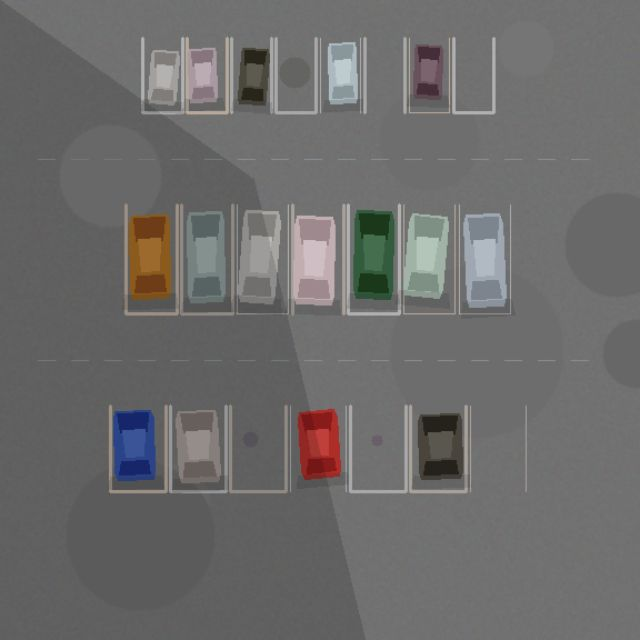space-empty: (230, 406, 286, 491), (350, 406, 406, 491), (470, 406, 526, 491), (276, 38, 316, 112), (364, 38, 404, 112), (453, 38, 493, 112)
space-occupied: (126, 204, 177, 313), (181, 204, 232, 313), (237, 204, 288, 313), (292, 204, 343, 313), (348, 204, 399, 313), (403, 204, 454, 313), (459, 204, 510, 313), (110, 406, 166, 491), (170, 406, 226, 491), (290, 406, 346, 491), (410, 406, 466, 491), (142, 38, 182, 112), (187, 38, 227, 112), (231, 38, 271, 112), (320, 38, 360, 112), (409, 38, 449, 112)
